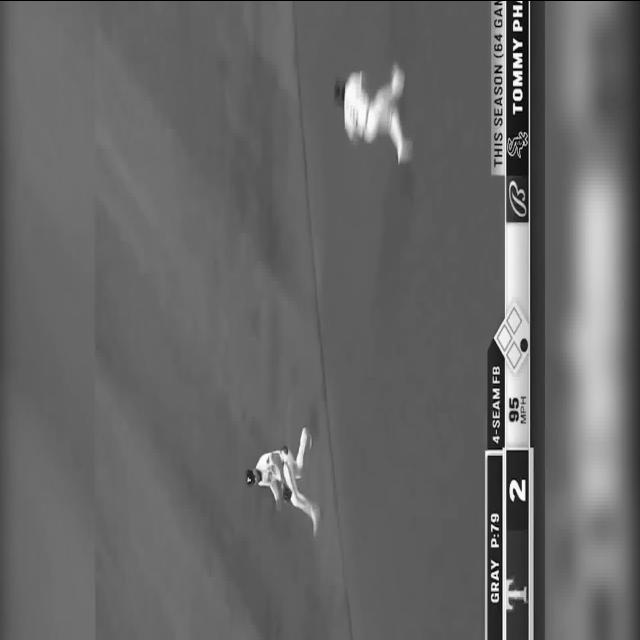baseball_glove: (280, 482, 292, 502)
shoe: (397, 138, 413, 164), (311, 504, 321, 536), (302, 426, 312, 448)
